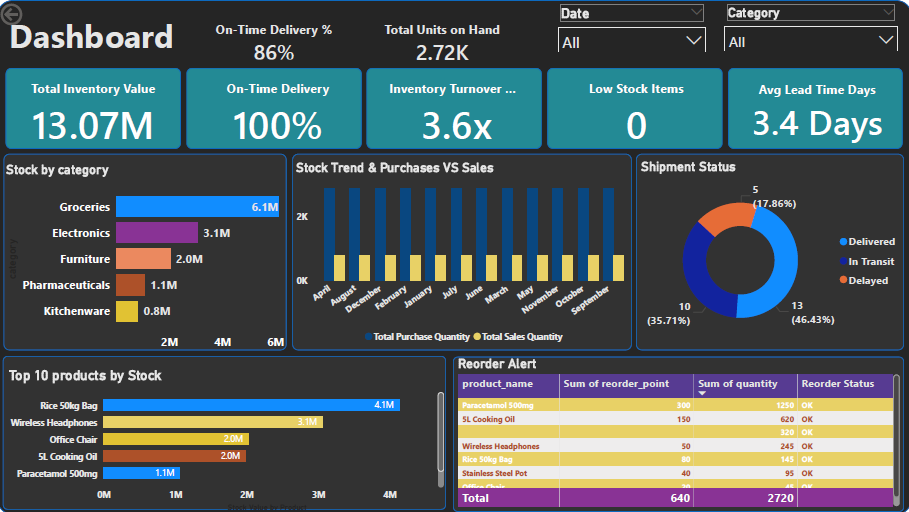

Layout of this report page (visuals, bound fields, positions):
{"tool":"powerbi","page":{"name":"Page 1","canvas":[1280,720],"ordinal":0},"visuals":[{"type":"shape","box":[0,0,1280,720],"z":0},{"type":"shape","box":[516.7,95,245,113.3],"z":3000},{"type":"shape","box":[265,95,245,113.3],"z":4000},{"type":"shape","box":[11.7,95,245,113.3],"z":5000},{"type":"shape","box":[770,95,245,113.3],"z":6000},{"type":"shape","box":[1023.3,95,243.3,113.3],"z":7000},{"type":"shape","box":[8.8,215.1,396.6,275.1],"z":8000},{"type":"shape","box":[412.7,215.1,475.6,275.1],"z":9000},{"type":"shape","box":[894.1,215.1,374.6,275.1],"z":10000},{"type":"shape","box":[8.3,498.3,620,215],"z":11000},{"type":"shape","box":[638,499,630.7,216.6],"z":12000},{"type":"cardVisual","fields":{"Data":["Measures Table.Total Inventory Value"]},"box":[11.7,81.7,245,140],"z":13000},{"type":"cardVisual","title":"On-Time Delivery","fields":{"Data":["Measures Table.On-Time Delivery %"]},"box":[270,81.7,246.7,133.3],"z":14000},{"type":"cardVisual","fields":{"Data":["Measures Table.Inventory Turnover Display"]},"box":[520,81.7,245,135],"z":15000},{"type":"cardVisual","fields":{"Data":["Measures Table.Avg Lead Time Days"]},"box":[1025,83.3,245,136.7],"z":16000},{"type":"clusteredBarChart","title":"Stock by category","fields":{"Category":["products.category"],"Y":["Measures Table.Stock Value by Category"]},"box":[7.8,225.6,404.4,273.3],"z":17000},{"type":"cardVisual","fields":{"Data":["Measures Table.Low Stock Items"]},"box":[773.3,81.7,243.3,140],"z":18000},{"type":"clusteredBarChart","title":"Top 10 products by Stock","fields":{"Category":["products.product_name"],"Y":["Measures Table.Stock Value by Product"]},"box":[12,514,618,206],"z":19000},{"type":"clusteredColumnChart","title":"Stock Trend & Purchases VS Sales","fields":{"Category":["Date.Month"],"Y":["Measures Table.Total Purchase Quantity","Measures Table.Total Sales Quantity"]},"box":[414.4,224.4,481.1,264.4],"z":20000},{"type":"donutChart","title":"Shipment Status","fields":{"Category":["shipments.status"],"Y":["Measures Table.Shipment Count by Status"]},"box":[896.7,221.7,375,263.3],"z":21000},{"type":"tableEx","title":"Reorder Alert","fields":{"Values":["products.product_name","Sum(products.reorder_point)","Sum(inventory.quantity)","inventory.Reorder Status"]},"box":[640,498.3,628.3,215],"z":22000},{"type":"actionButton","box":[0,0,100,40],"z":23000},{"type":"actionButton","box":[0,0,265,95],"z":24000},{"type":"slicer","fields":{"Values":["Date.Date"]},"box":[775,0,226.7,71.7],"z":25000},{"type":"slicer","fields":{"Values":["products.category"]},"box":[1008.3,0,261.7,70],"z":26000},{"type":"cardVisual","fields":{"Data":["Measures Table.Total Units on Hand"]},"box":[510,0,226.7,120],"z":27000},{"type":"cardVisual","fields":{"Data":["Measures Table.On-Time Delivery %"]},"box":[271.7,0,231.7,100],"z":29000}]}

Visuals, with their boxes in screenshot pixels (x1, y1, x2, y2), scaled from the page's 1280x720 canvas onto the 909x512 screenshot:
shape: locate(0, 0, 908, 511)
shape: locate(367, 68, 541, 148)
shape: locate(188, 68, 362, 148)
shape: locate(8, 68, 182, 148)
shape: locate(547, 68, 721, 148)
shape: locate(727, 68, 899, 148)
shape: locate(6, 153, 288, 349)
shape: locate(293, 153, 631, 349)
shape: locate(635, 153, 901, 349)
shape: locate(6, 354, 446, 507)
shape: locate(453, 355, 901, 509)
cardVisual - Measures Table.Total Inventory Value: locate(8, 58, 182, 158)
"On-Time Delivery" cardVisual: locate(192, 58, 367, 153)
cardVisual - Measures Table.Inventory Turnover Display: locate(369, 58, 543, 154)
cardVisual - Measures Table.Avg Lead Time Days: locate(728, 59, 902, 156)
"Stock by category" clusteredBarChart: locate(6, 160, 293, 355)
cardVisual - Measures Table.Low Stock Items: locate(549, 58, 722, 158)
"Top 10 products by Stock" clusteredBarChart: locate(9, 366, 447, 511)
"Stock Trend & Purchases VS Sales" clusteredColumnChart: locate(294, 160, 636, 348)
"Shipment Status" donutChart: locate(637, 158, 903, 345)
"Reorder Alert" tableEx: locate(454, 354, 901, 507)
actionButton: locate(0, 0, 71, 28)
actionButton: locate(0, 0, 188, 68)
slicer - Date.Date: locate(550, 0, 711, 51)
slicer - products.category: locate(716, 0, 902, 50)
cardVisual - Measures Table.Total Units on Hand: locate(362, 0, 523, 85)
cardVisual - Measures Table.On-Time Delivery %: locate(193, 0, 357, 71)
